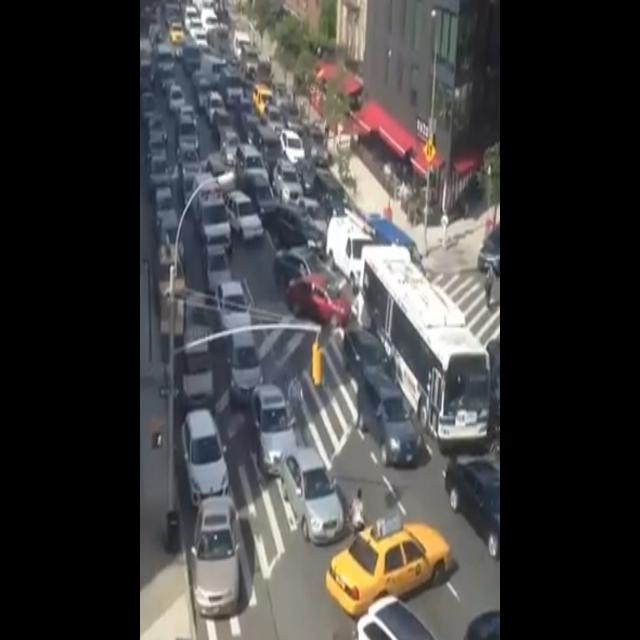Ambulance: (188, 170, 234, 258)
